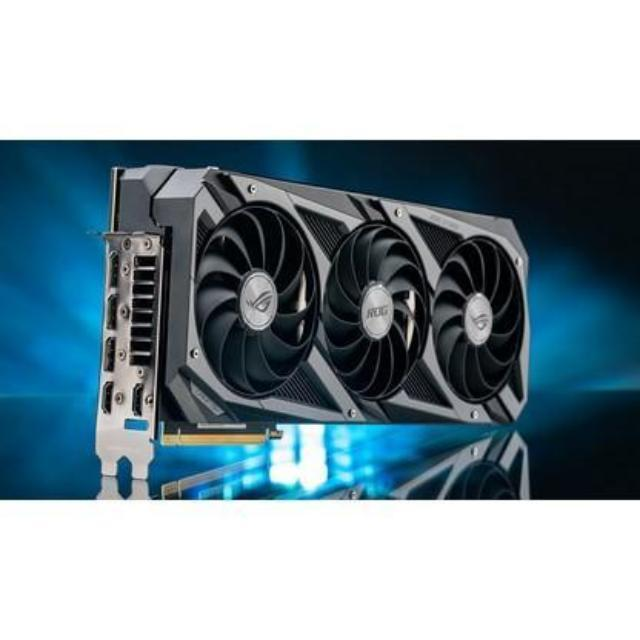GPU: (106, 156, 528, 462)
